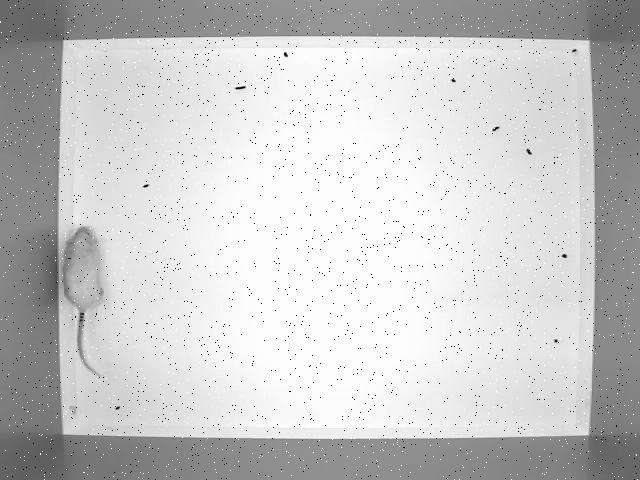Tikus: (59, 221, 113, 381)
